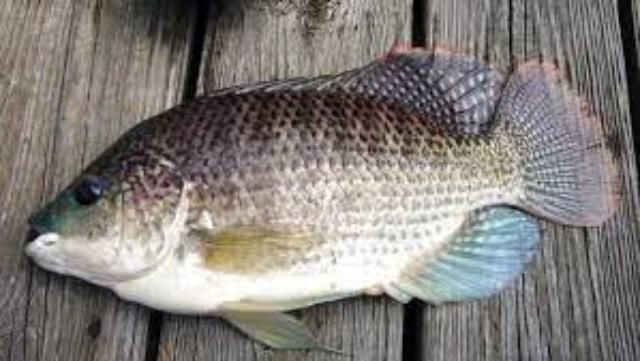Mulut: (10, 195, 66, 283)
Sirip Anal: (373, 198, 555, 316)
Sirip Dada: (179, 208, 343, 286)
Sirip Ekor: (491, 40, 633, 246)
Sirip Perut: (205, 293, 348, 361)
Sirip Punggung: (192, 33, 520, 151)
